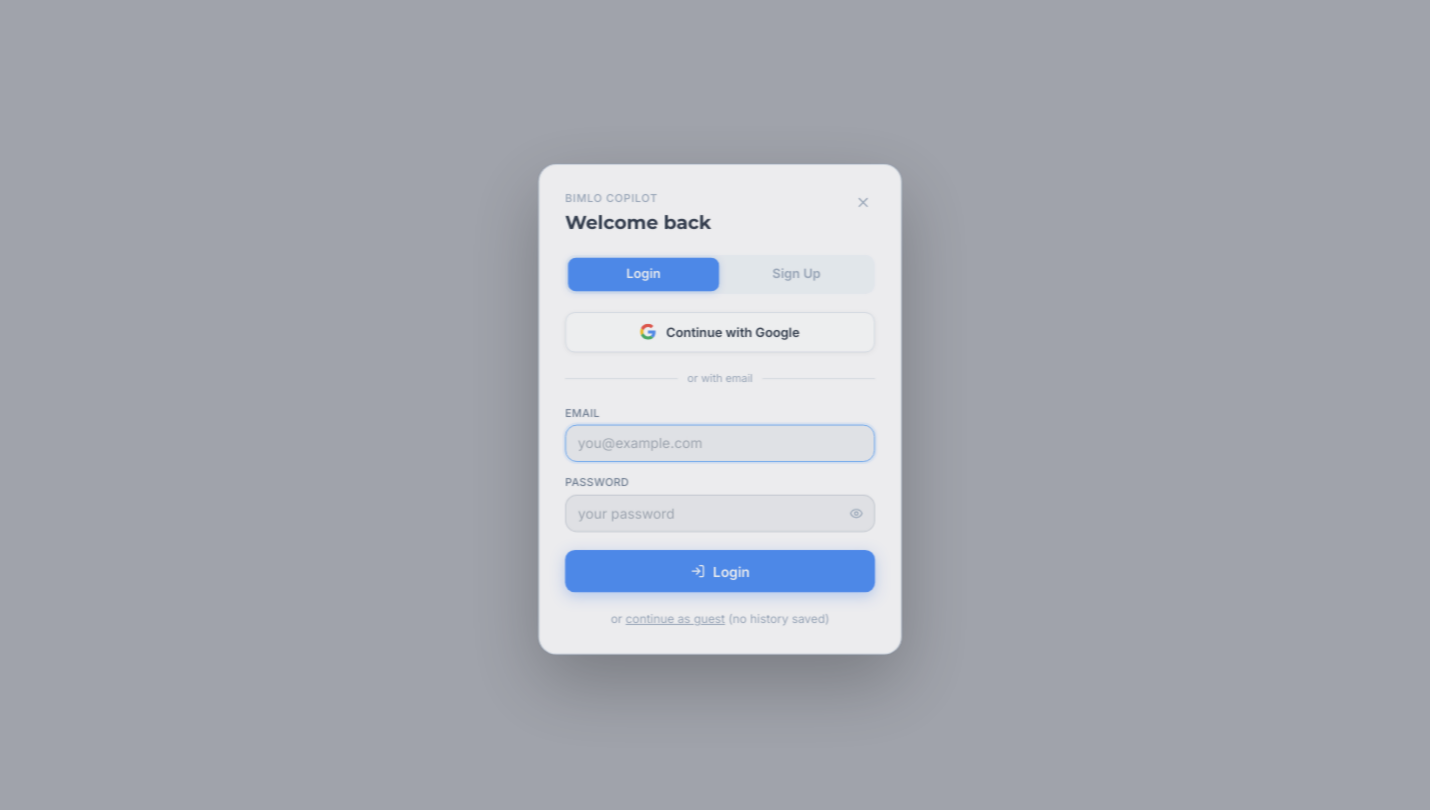
Test: AuthModal › switches to signup tab
Click the button "Sign Up" at coordinates (796, 274), box left=721, top=257, right=872, bottom=290
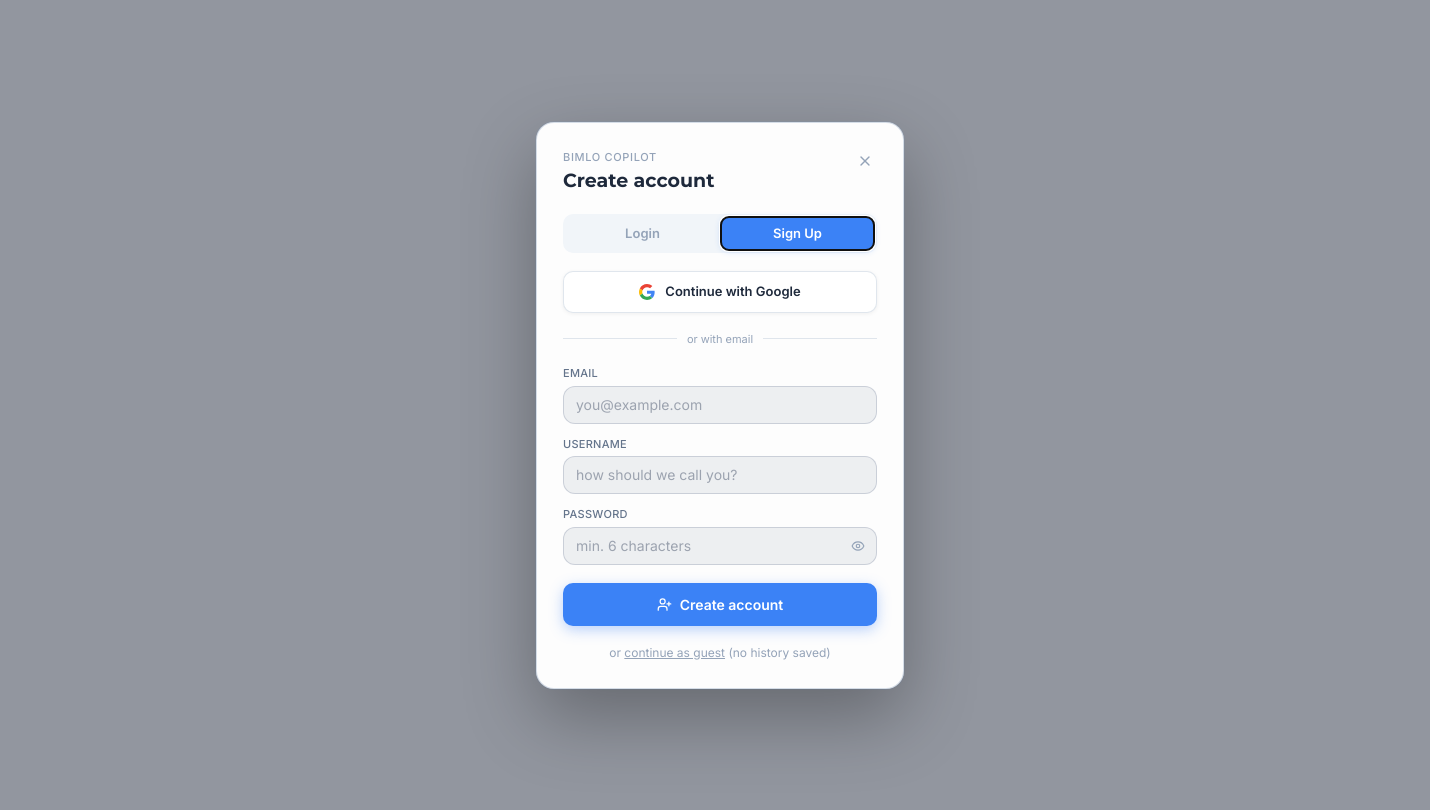
Expected: the number of headings "Create account" is 2, left=563, top=167, right=714, bottom=196; left=563, top=582, right=877, bottom=626
Expected: the text "Username" is shown, left=563, top=436, right=627, bottom=450
